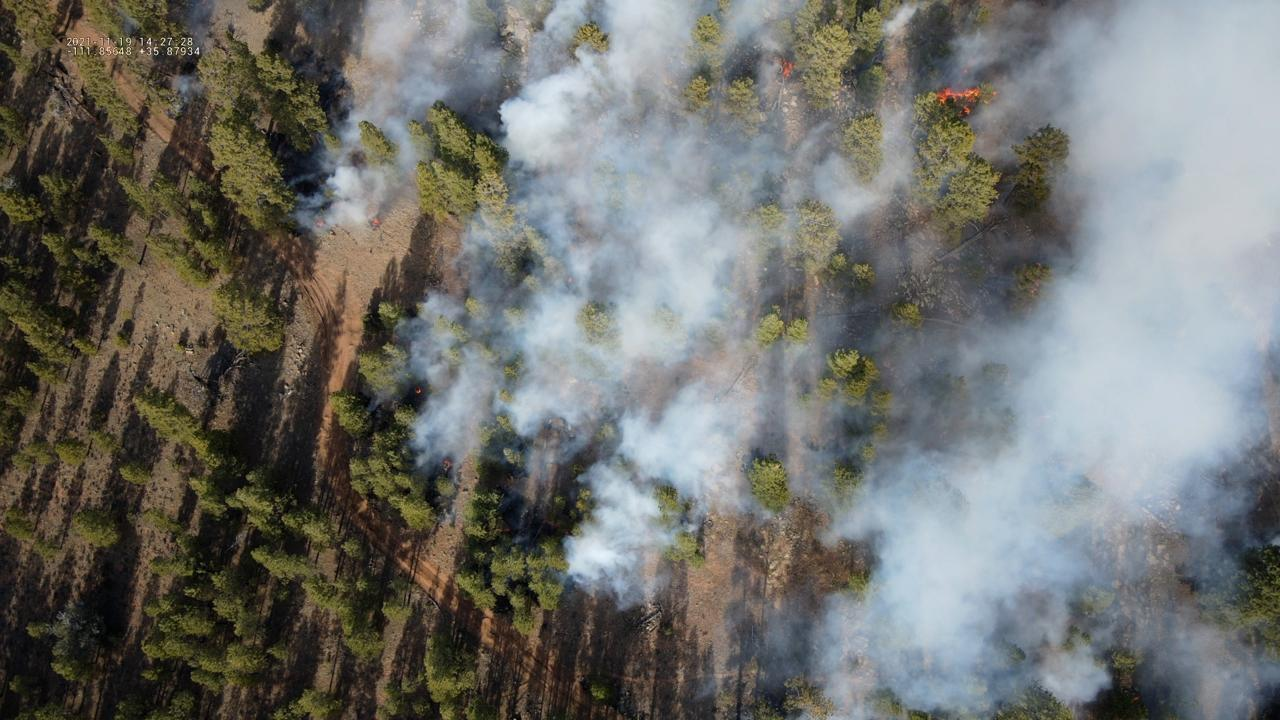fire: (934, 84, 982, 118), (780, 61, 794, 79), (442, 459, 453, 470), (371, 218, 381, 226), (314, 219, 325, 226), (414, 388, 423, 395), (962, 69, 969, 74), (992, 91, 998, 96)
smoke: (276, 0, 1280, 720), (168, 0, 216, 60), (170, 70, 206, 106), (121, 16, 140, 36)
